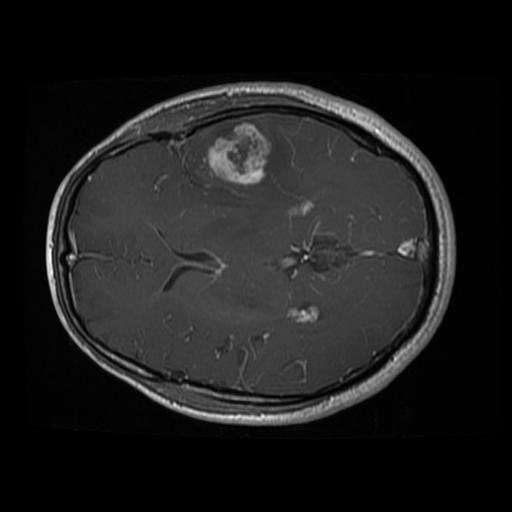glioma: (206, 120, 273, 187)
